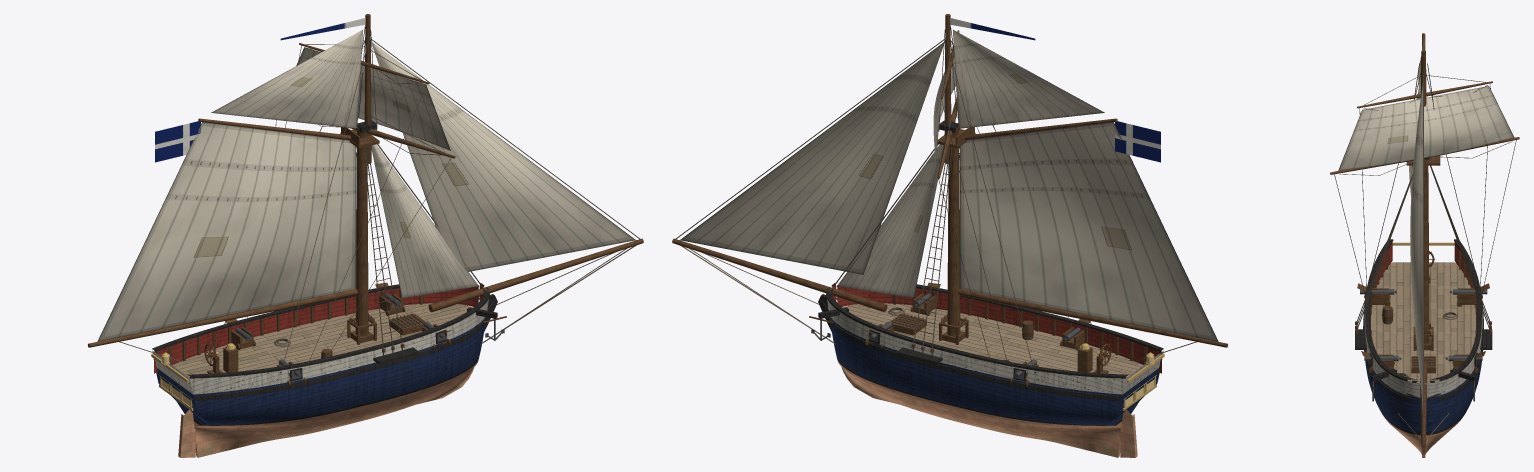
The model's file is revenue.glb.
The picture shows the model from 3 angles, left to right: view 1: azimuth 30°, elevation 25°; view 2: azimuth 150°, elevation 25°; view 3: azimuth 270°, elevation 25°; orthographic projection. The views are drawn at different scales.
Visible parts, largest first — view 1: SM_Revenue; view 2: SM_Revenue; view 3: SM_Revenue.
Part boxes in pixels (box(x1,y1,x2,y2)): SM_Revenue: box(88, 14, 643, 457); SM_Revenue: box(672, 14, 1227, 457); SM_Revenue: box(1330, 33, 1519, 457).
Size of the model in its own units: 29.9 by 18.2 by 8.45.
Materials: 14 (10 with a texture image).
